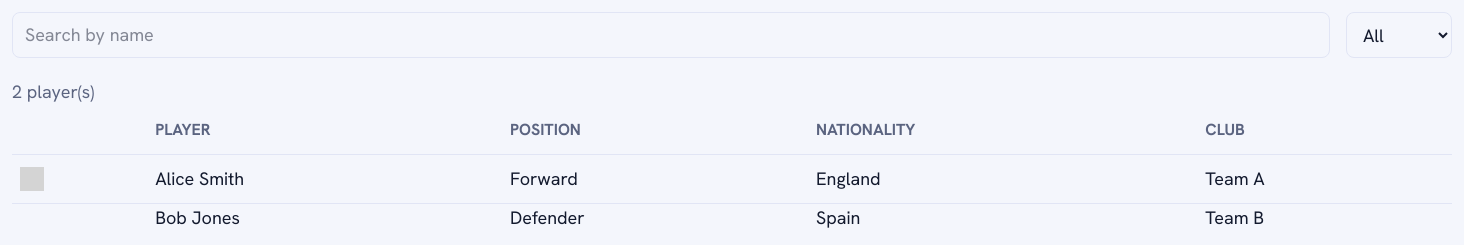
Test: PlayerDirectoryTable › filters by club
This screenshot has width=1464, height=245.
Expected: the text "Alice Smith" is shown, [147,154,502,204]
Select "Team B" in the dropdown. click: (1399, 35)
box: [1346,12,1452,58]
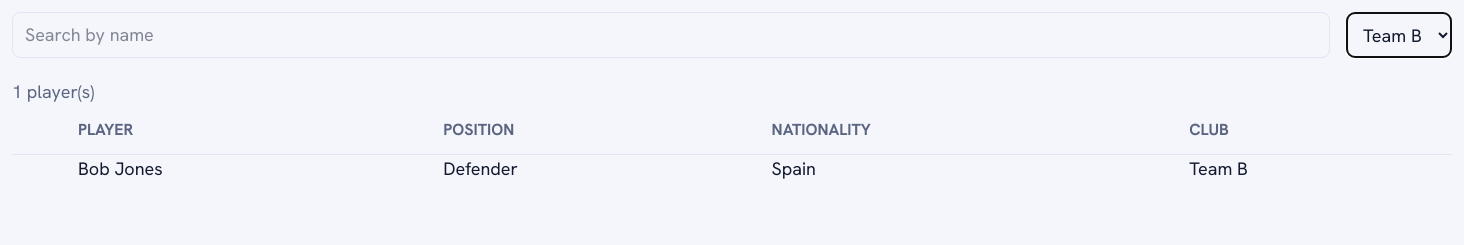
Expected: the text "Bob Jones" is shown, [70,154,435,183]
Expected: the text "Alice Smith" is gone
